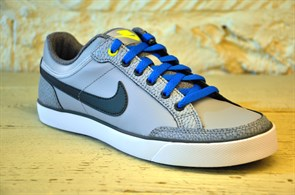nike: (46, 68, 129, 118)
